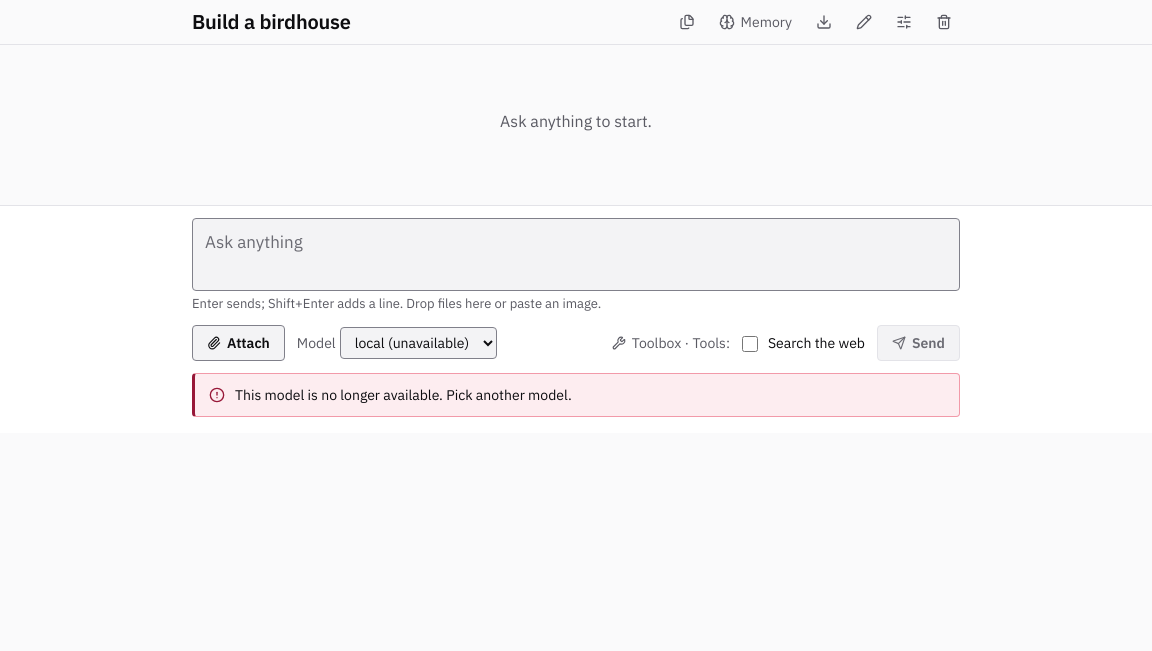
the header and its delete question › shows the chat's settings open on its button
Click the button named "This chat's settings". click: (904, 22)
box: [888,6,920,38]
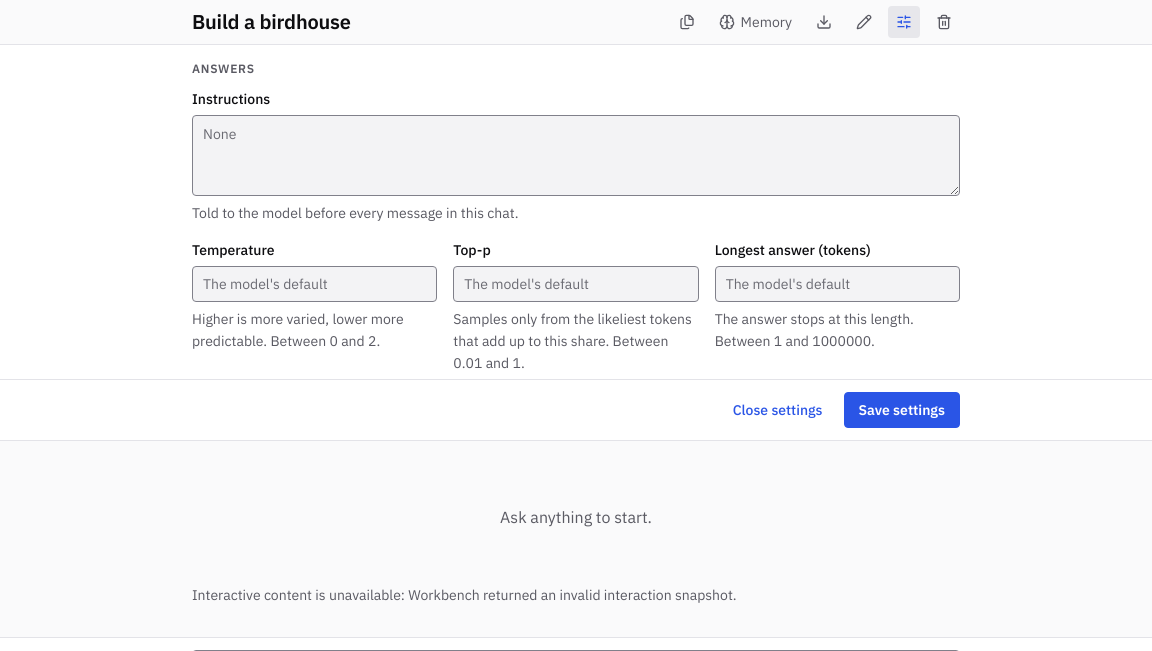
Result: the button named "This chat's settings" is expanded at [888,6,920,38]
